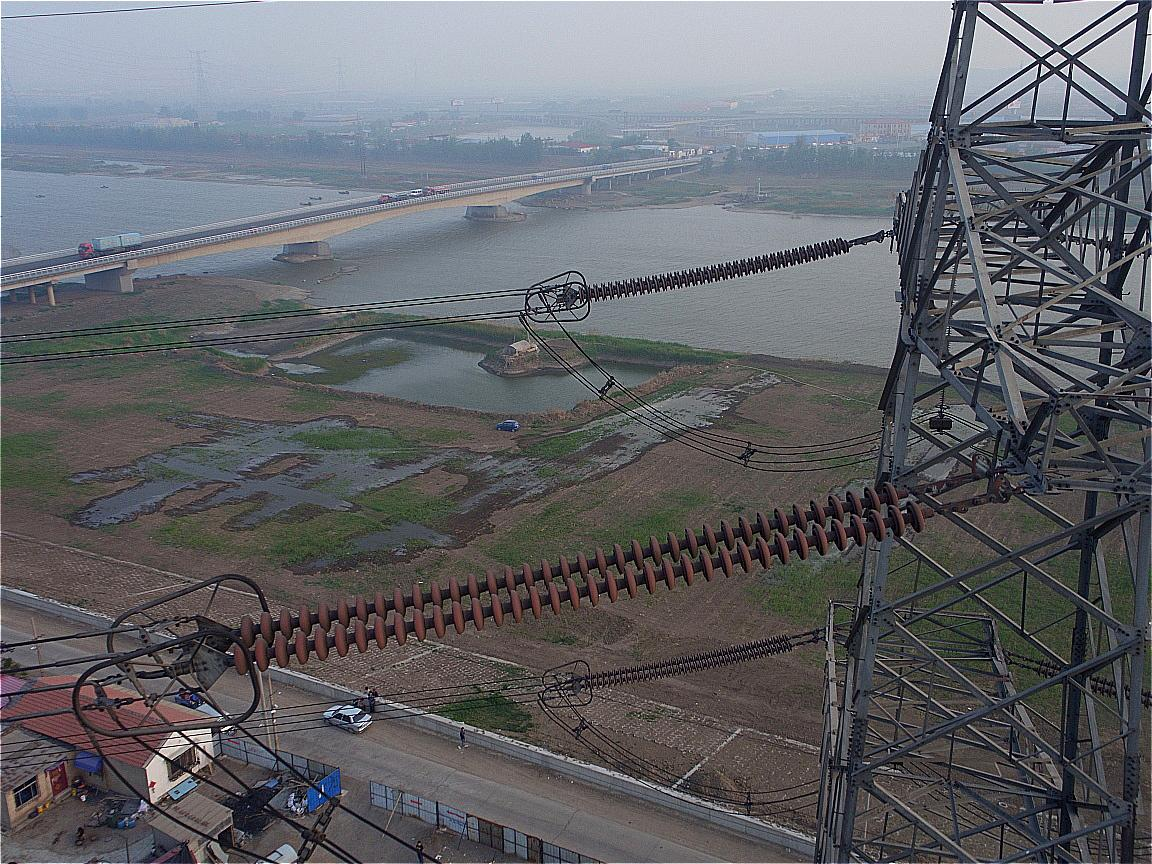insultor1: (217, 468, 936, 678)
insultor2: (576, 228, 864, 307)
